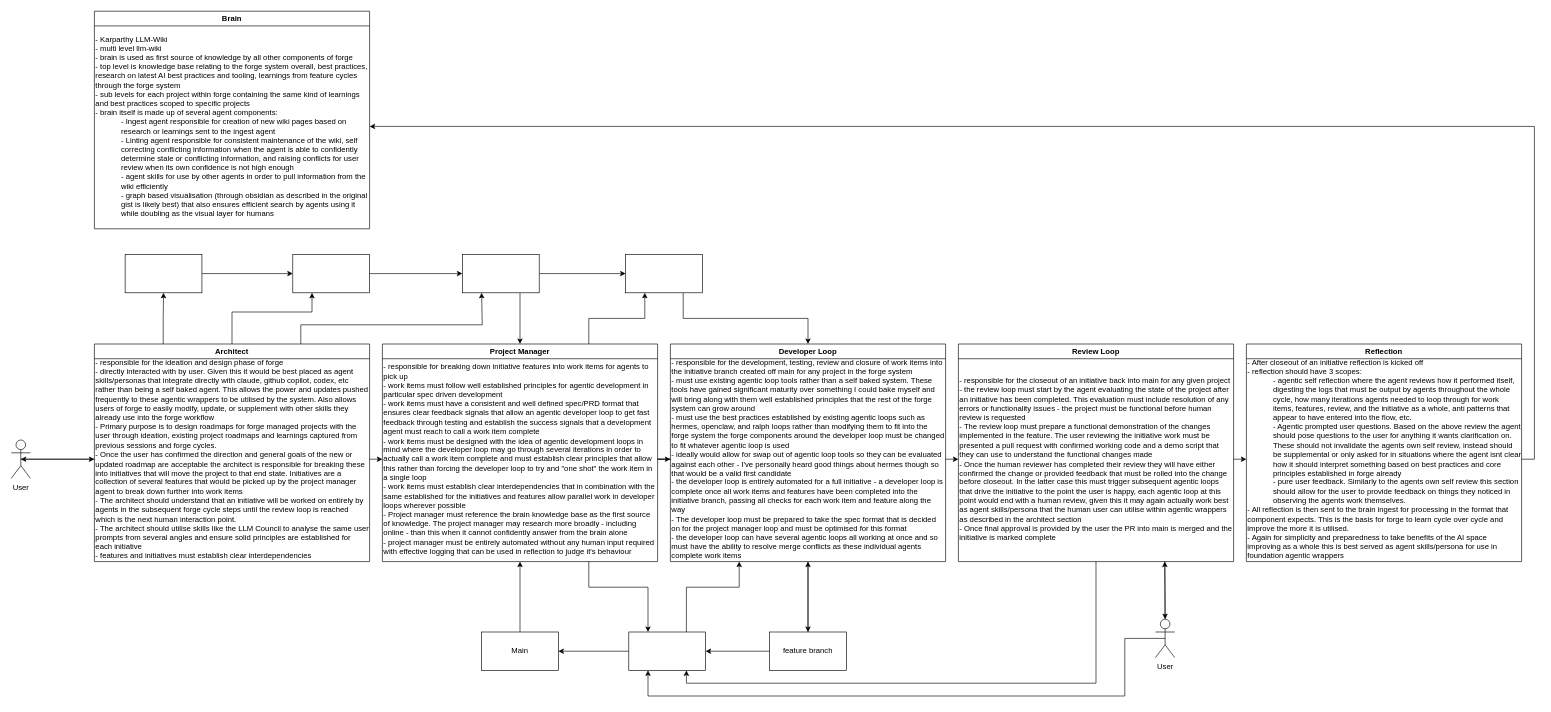
This 1551x712 diagram has some shape labels left out. Each missing label, with the centre of its shape:
"Feature" goes at (x=500, y=273).
"Initiative" goes at (x=331, y=273).
"Initiative Branch" goes at (x=667, y=650).
"Roadmap" goes at (x=163, y=273).
"Work item" goes at (x=663, y=273).
